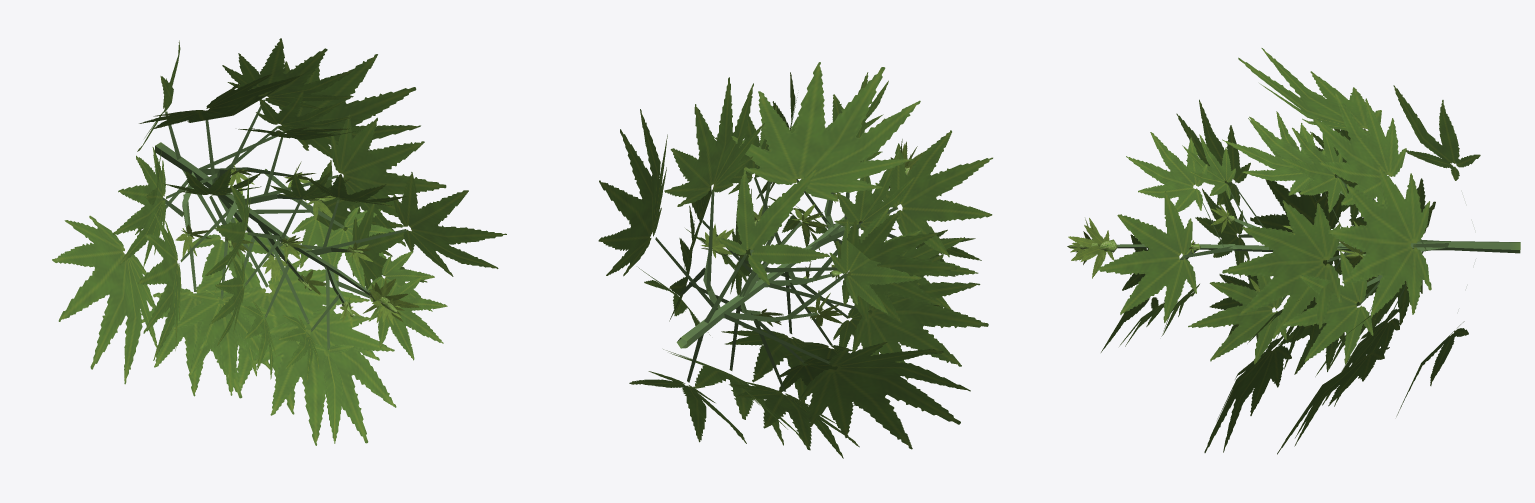
File: p_haze_preflower_c0_cards.obj
The picture shows the model from 3 angles, left to right: view 1: azimuth 30°, elevation 25°; view 2: azimuth 150°, elevation 25°; view 3: azimuth 270°, elevation 25°; orthographic projection. The views are drawn at different scales.
Bounding box in the file's own units: 1.63 × 1.5 × 1.48.
1 material, 1 textured.
